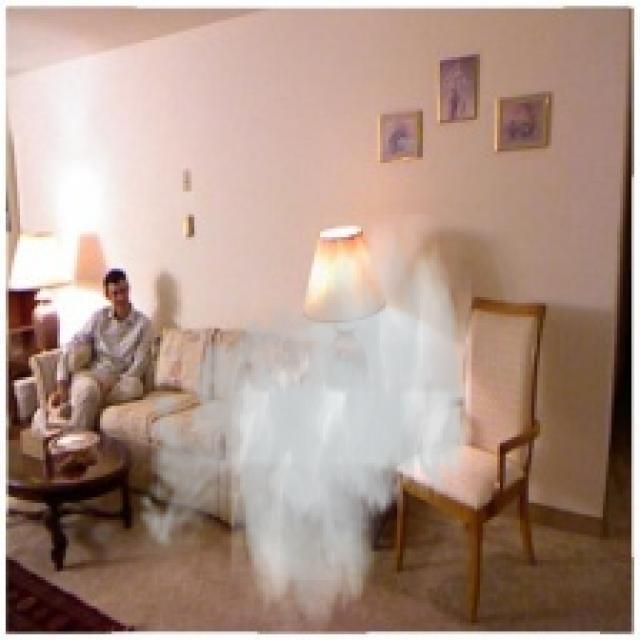smoke: (129, 214, 474, 637)
